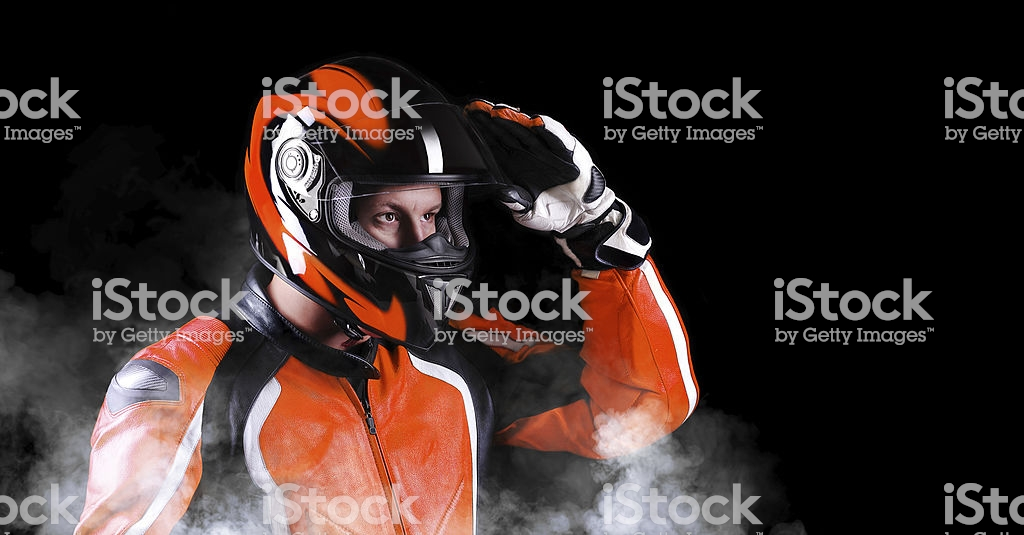helmet: (232, 50, 483, 336)
